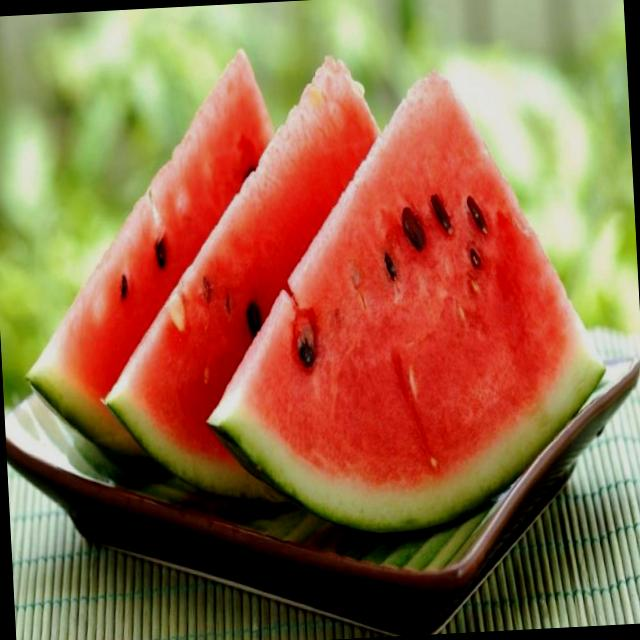dua hau: (208, 76, 602, 529), (106, 61, 377, 500), (29, 51, 270, 448), (294, 309, 307, 353)
